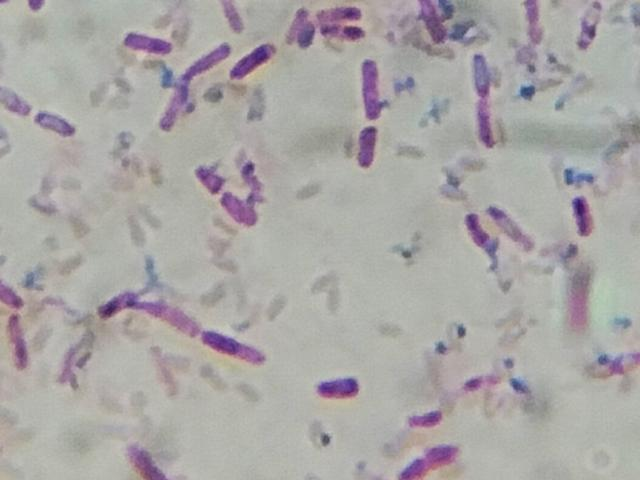E. coli: (186, 165, 256, 233), (468, 52, 508, 153), (99, 295, 200, 330), (2, 90, 70, 136), (396, 434, 462, 480), (488, 196, 541, 246), (205, 325, 263, 367), (575, 5, 612, 67), (123, 436, 171, 480), (151, 80, 188, 134), (361, 56, 392, 120), (313, 366, 360, 407), (419, 3, 457, 51), (8, 313, 40, 366), (235, 39, 274, 79), (185, 40, 227, 77), (321, 5, 363, 42), (352, 120, 386, 165), (122, 26, 167, 59), (286, 6, 317, 48), (519, 0, 541, 45), (461, 212, 487, 250), (220, 0, 243, 29)
